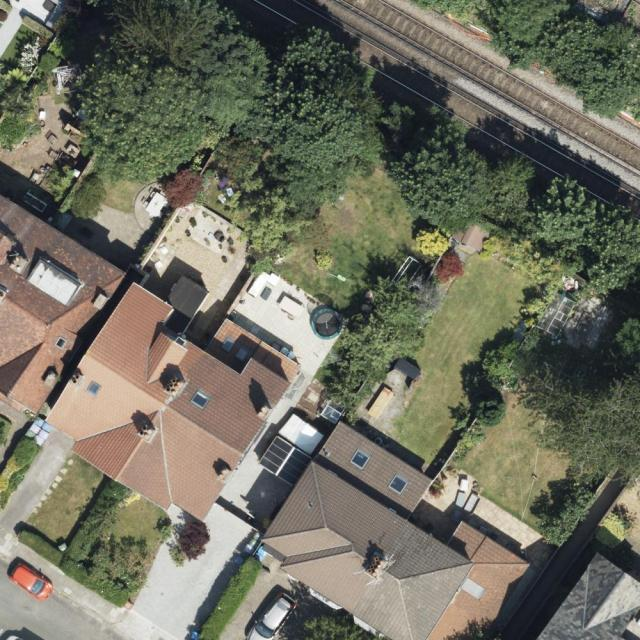roof: (47, 275, 303, 526), (263, 421, 534, 640), (0, 195, 129, 419), (540, 550, 640, 640)
skylight: (463, 572, 491, 604), (347, 444, 373, 470), (386, 468, 410, 496), (190, 388, 213, 409), (87, 377, 105, 396), (51, 334, 71, 350), (219, 334, 237, 351), (236, 344, 252, 362), (173, 333, 190, 349)
